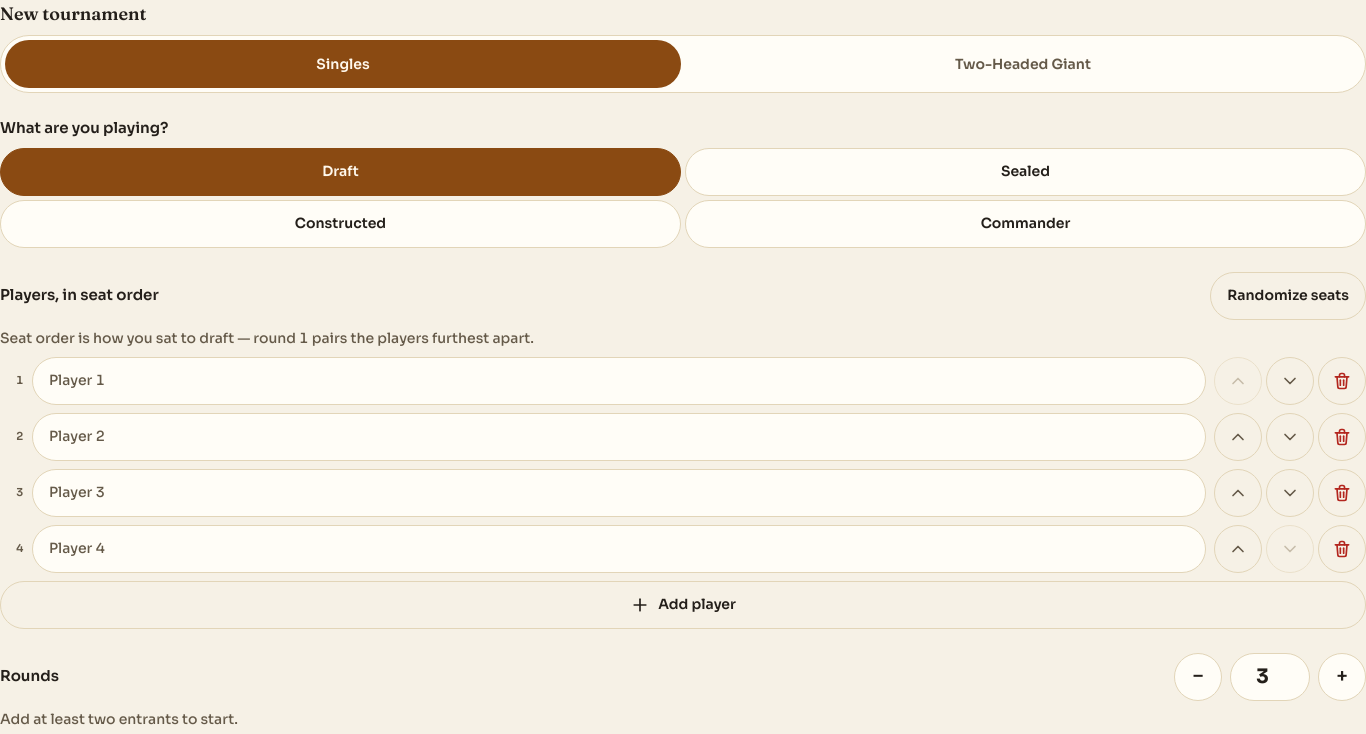
Test: TournamentSetupScreen › will not let the field shrink below two entrants
What coordinates should you click on to do the following:
click the button named "Remove Player 4"
I would click on:
 (1342, 548)
Its box is [1318, 524, 1365, 572].
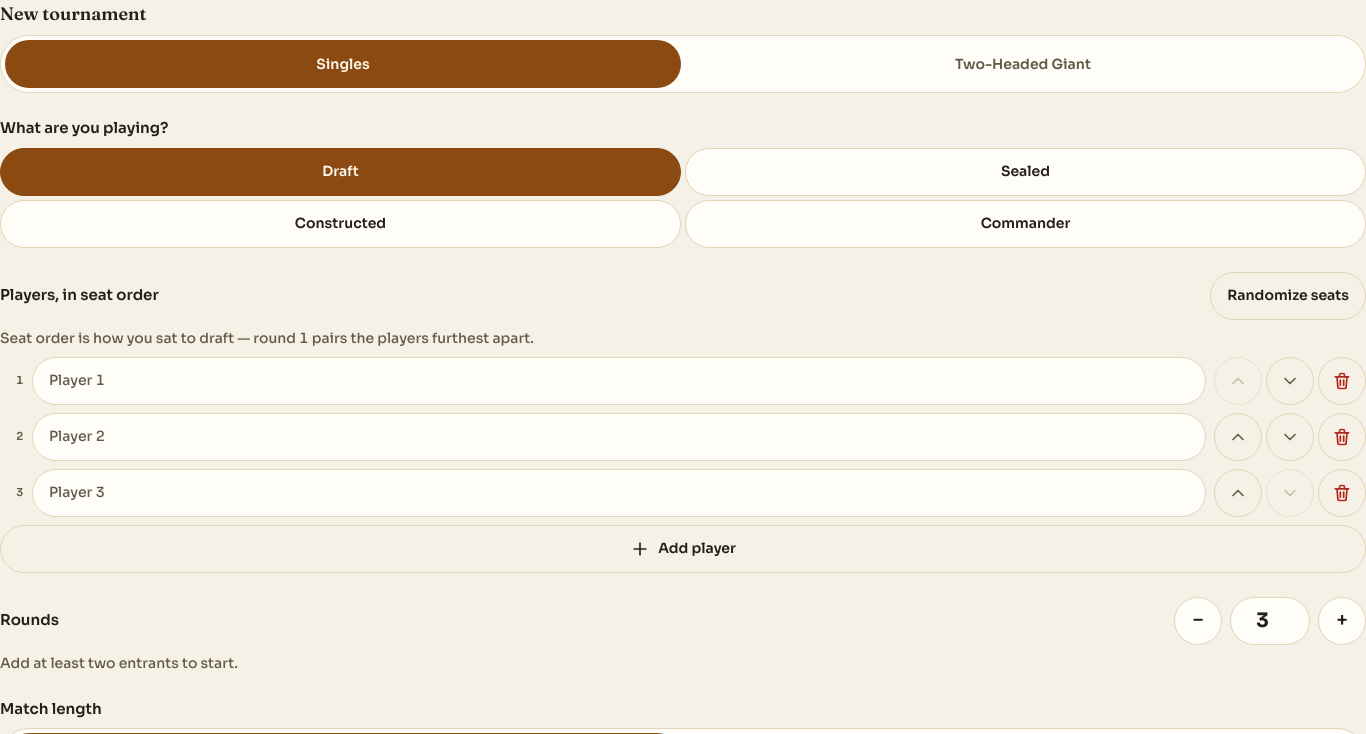
What coordinates should you click on to do the following:
click the button named "Remove Player 3"
I would click on:
 (1342, 492)
Its box is [1318, 468, 1365, 516].
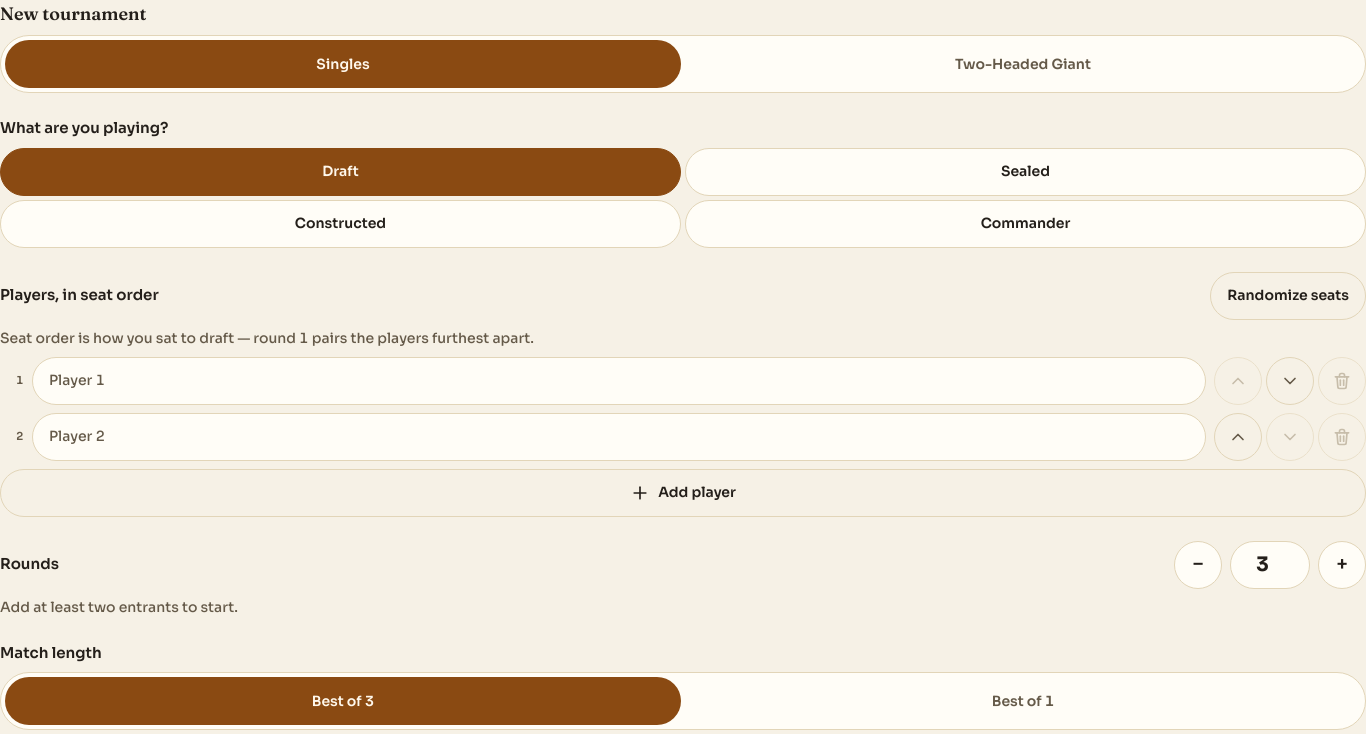
Result: the button named "Remove Player 2" is disabled at [1318, 412, 1365, 460]
